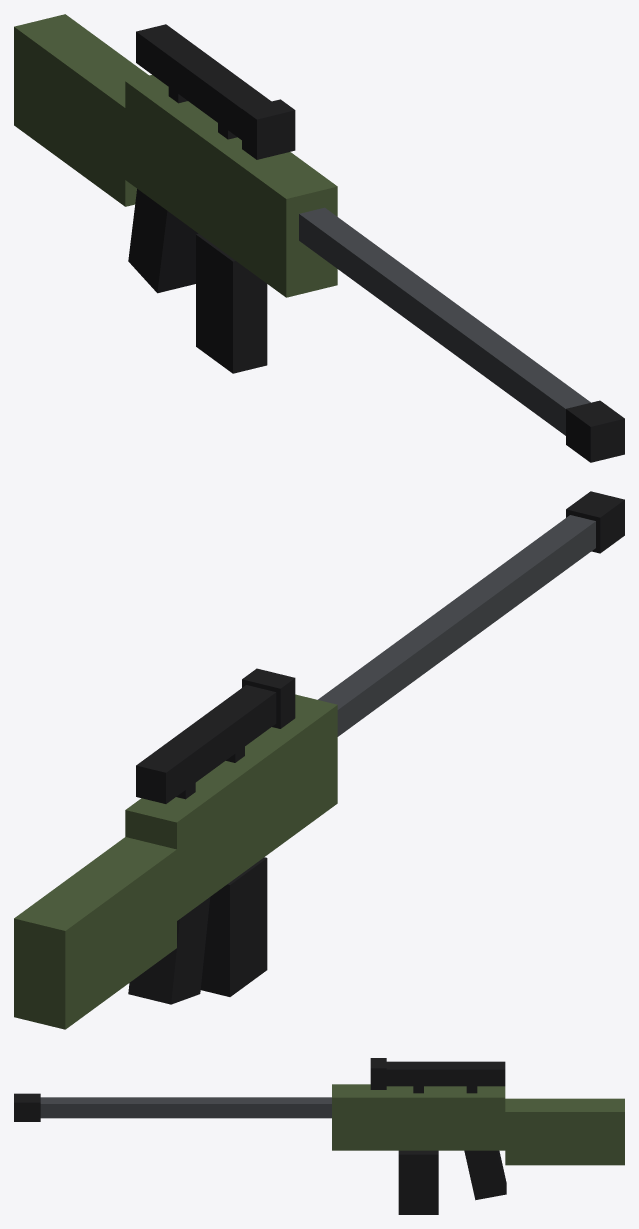
File: gun-awp.glb
3 views of the same model, one above another, from view 1: azimuth 30°, elevation 25°; view 2: azimuth 150°, elevation 25°; view 3: azimuth 270°, elevation 25° (orthographic). The views are drawn at different scales.
Parts seen in each view (by area): view 1: awp; view 2: awp; view 3: awp.
Boxes of the visible parts, bbox=[...] form: awp: bbox=[14, 14, 624, 462]; awp: bbox=[14, 491, 624, 1029]; awp: bbox=[14, 1058, 624, 1214].
Bounding box in the file's own units: 0.12 × 0.61 × 2.29.
